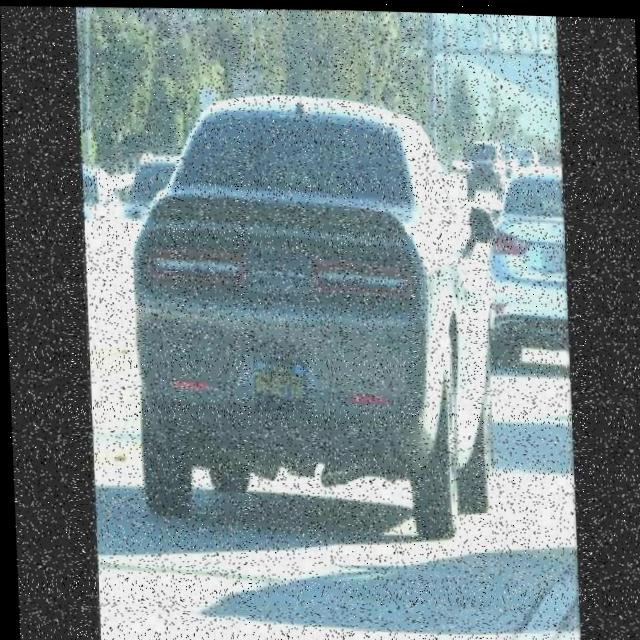LicensePlate: (251, 357, 307, 411), (539, 243, 565, 274)
